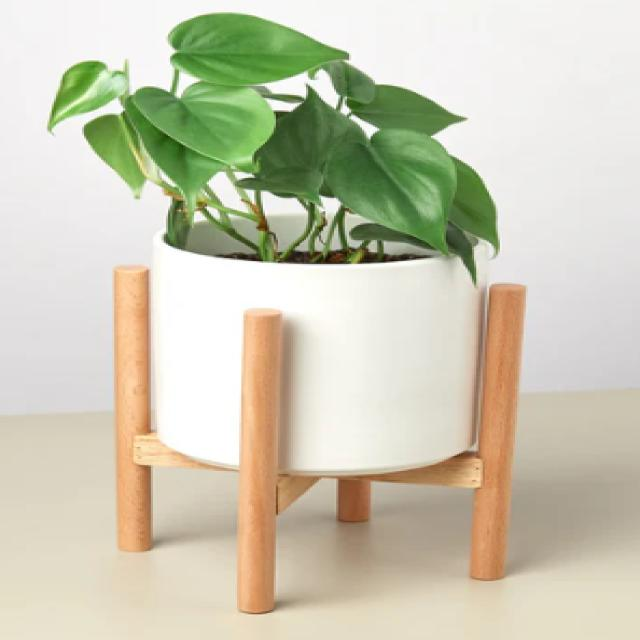Plant Pot: (99, 199, 568, 634)
